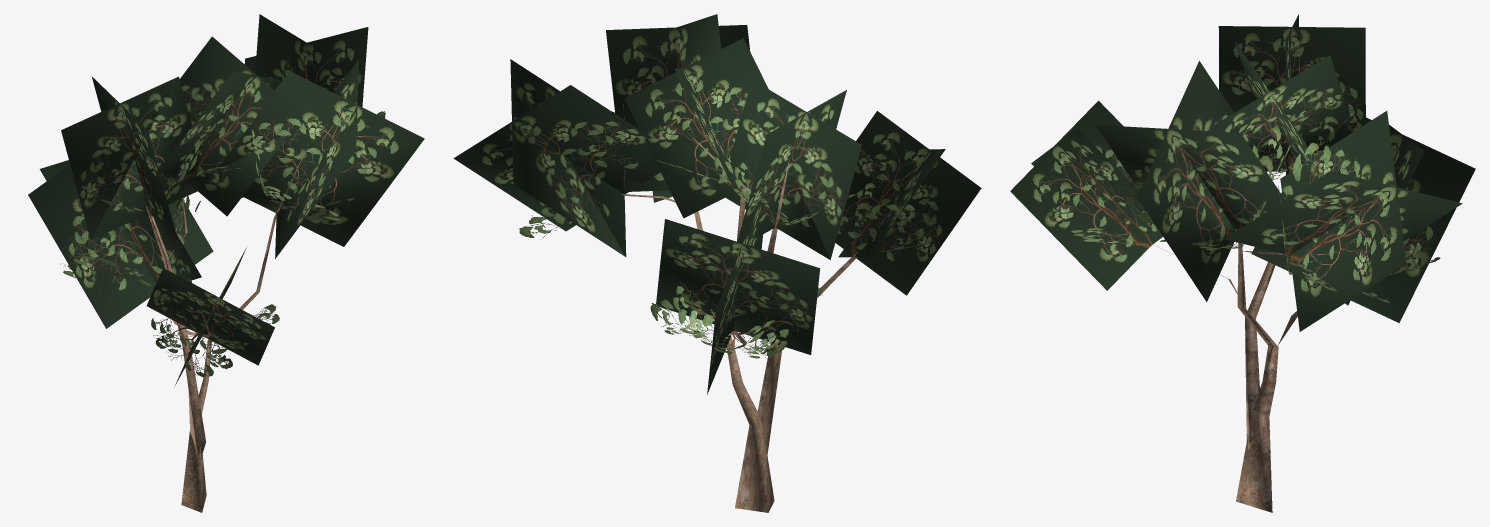
Rendered from decd_ginkgotreeleaves_a1_l1.fbx.
3 views of the same model, side by side, from view 1: azimuth 30°, elevation 25°; view 2: azimuth 150°, elevation 25°; view 3: azimuth 270°, elevation 25° (orthographic). The views are drawn at different scales.
Parts seen in each view (by area): view 1: mesh_node; view 2: mesh_node; view 3: mesh_node.
Part boxes in pixels (box(x1,y1,x2,y2)): mesh_node: box(28, 14, 424, 512); mesh_node: box(453, 14, 981, 512); mesh_node: box(1010, 14, 1475, 512).
Bounding box in the file's own units: 7.49 × 8.3 × 7.31.
